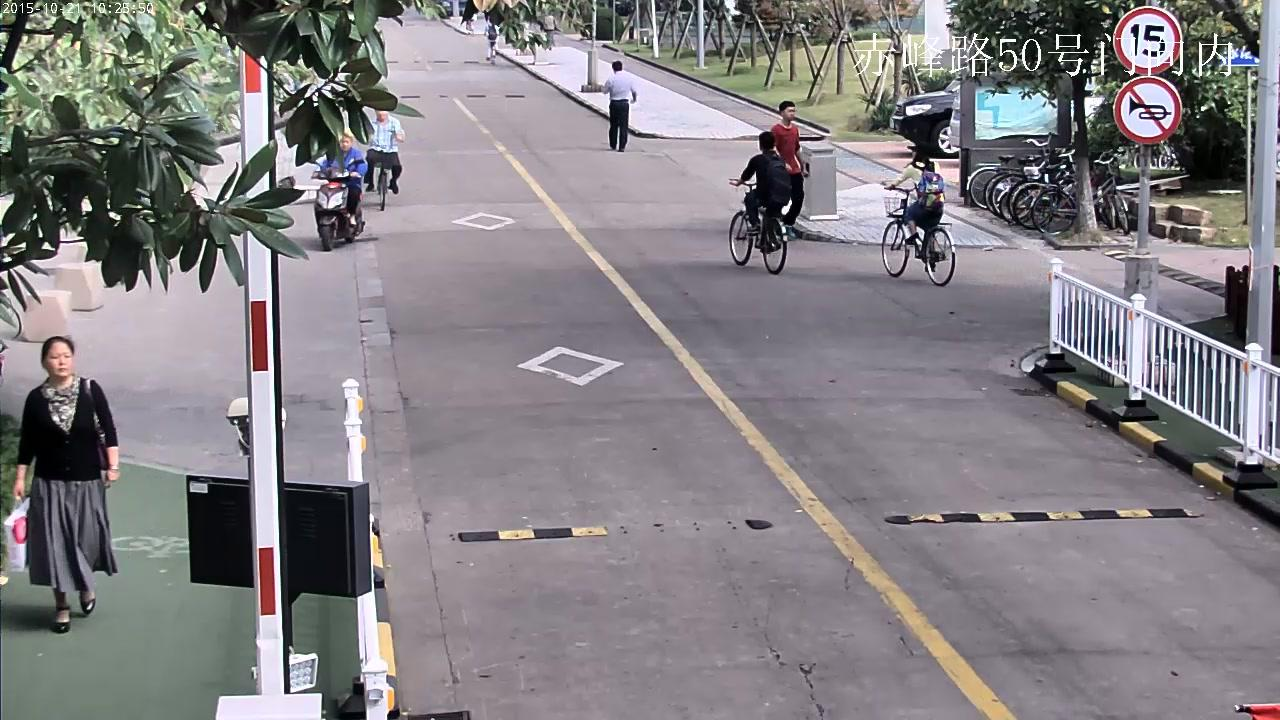person: (6, 334, 120, 634), (881, 141, 955, 286), (728, 131, 792, 275), (885, 141, 945, 271), (733, 131, 792, 254), (310, 134, 367, 251), (770, 100, 809, 240), (319, 135, 367, 225), (362, 108, 404, 210), (363, 108, 404, 195), (603, 59, 636, 152), (484, 17, 499, 65), (484, 17, 499, 60)
